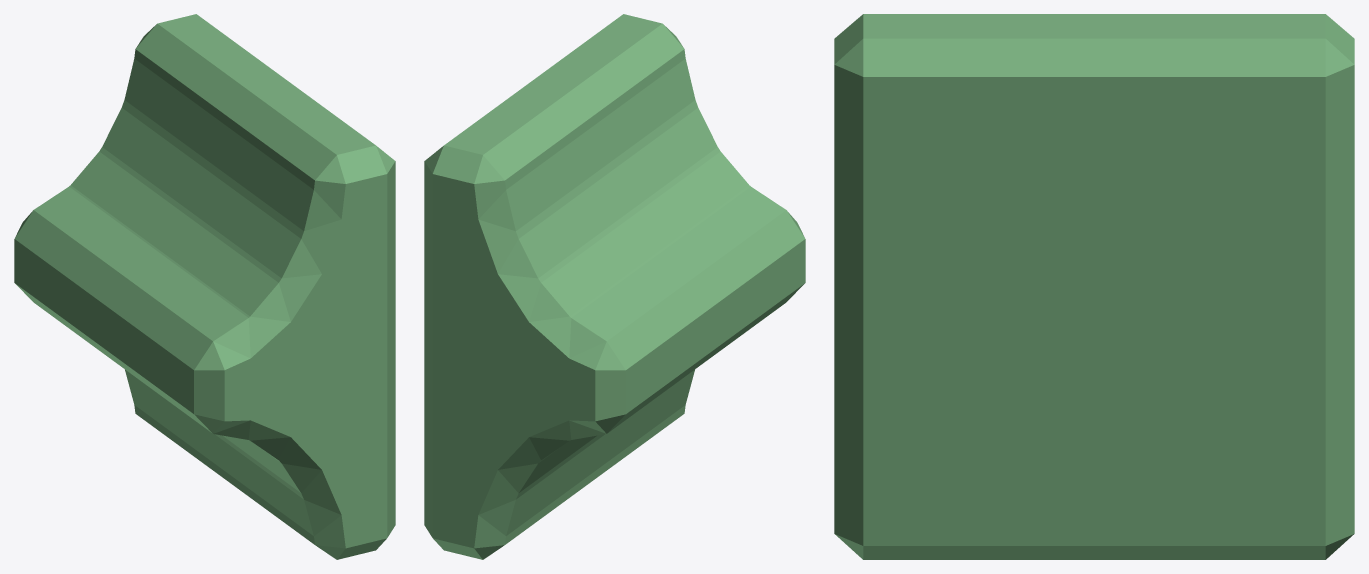
File: VIS_ElasticHingePart2.dae
The picture shows the model from 3 angles, left to right: view 1: azimuth 30°, elevation 25°; view 2: azimuth 150°, elevation 25°; view 3: azimuth 270°, elevation 25°; orthographic projection. The views are drawn at different scales.
Parts seen in each view (by area): view 1: VIS_ElasticHingePart2; view 2: VIS_ElasticHingePart2; view 3: VIS_ElasticHingePart2.
Part boxes in pixels (box(x1,y1,x2,y2)): VIS_ElasticHingePart2: box(14, 14, 395, 559); VIS_ElasticHingePart2: box(424, 14, 805, 559); VIS_ElasticHingePart2: box(834, 14, 1354, 559).
Bounding box in the file's own units: 0.013 × 0.0226 × 0.025.
